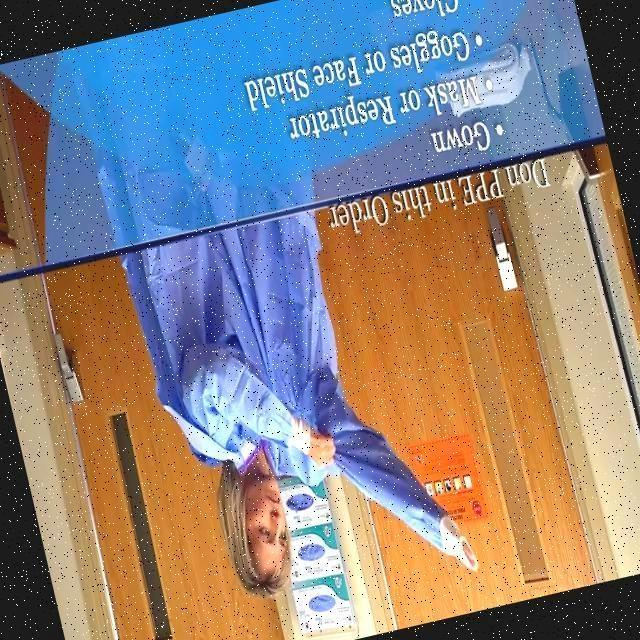no_apron: (278, 433, 344, 463)
no_hairnet: (252, 486, 284, 518)
